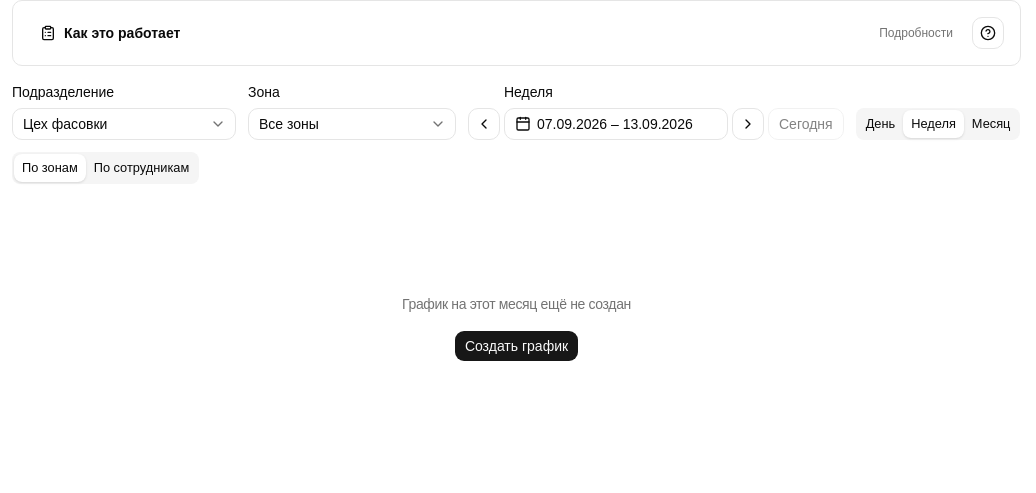
Scenario: schedule workspace › keeps one loader in the plan area from creating a schedule until it is on screen
This screenshot has width=1036, height=493.
Expected: the element showing "График на этот месяц ещё не создан Создать график" is shown, [402,296,631,362]
Click the button "Создать график": (517, 346) [454,330,579,362]
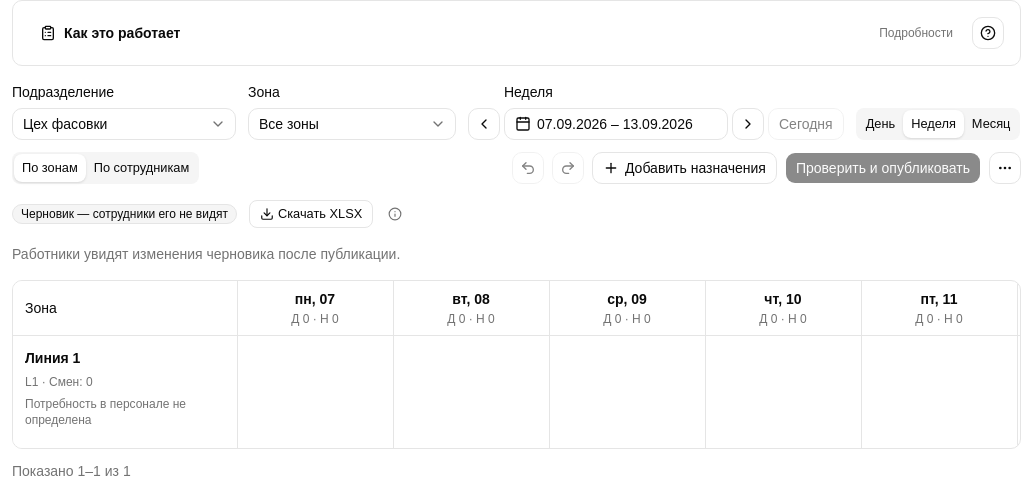
Result: the text "Черновик — сотрудники его не видят" is shown at [12,204,237,224]
